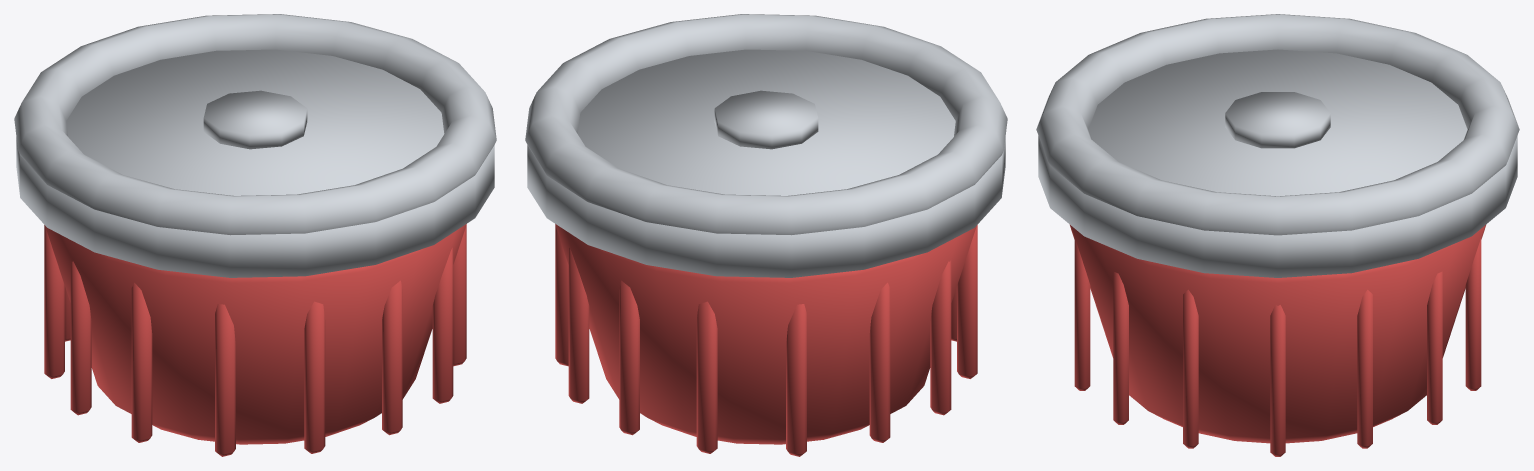
File: cargo_espresso_capsule_v2.glb
3 views of the same model, side by side, from view 1: azimuth 30°, elevation 25°; view 2: azimuth 150°, elevation 25°; view 3: azimuth 270°, elevation 25° (orthographic).
Parts seen in each view (by area): view 1: CargoCapsule; view 2: CargoCapsule; view 3: CargoCapsule.
Boxes of the visible parts, x1,y1,x2,y2 form: CargoCapsule: (14, 14, 496, 456); CargoCapsule: (525, 14, 1007, 456); CargoCapsule: (1036, 14, 1519, 456).
Bounding box in the file's own units: 0.0928 × 0.059 × 0.0928.
